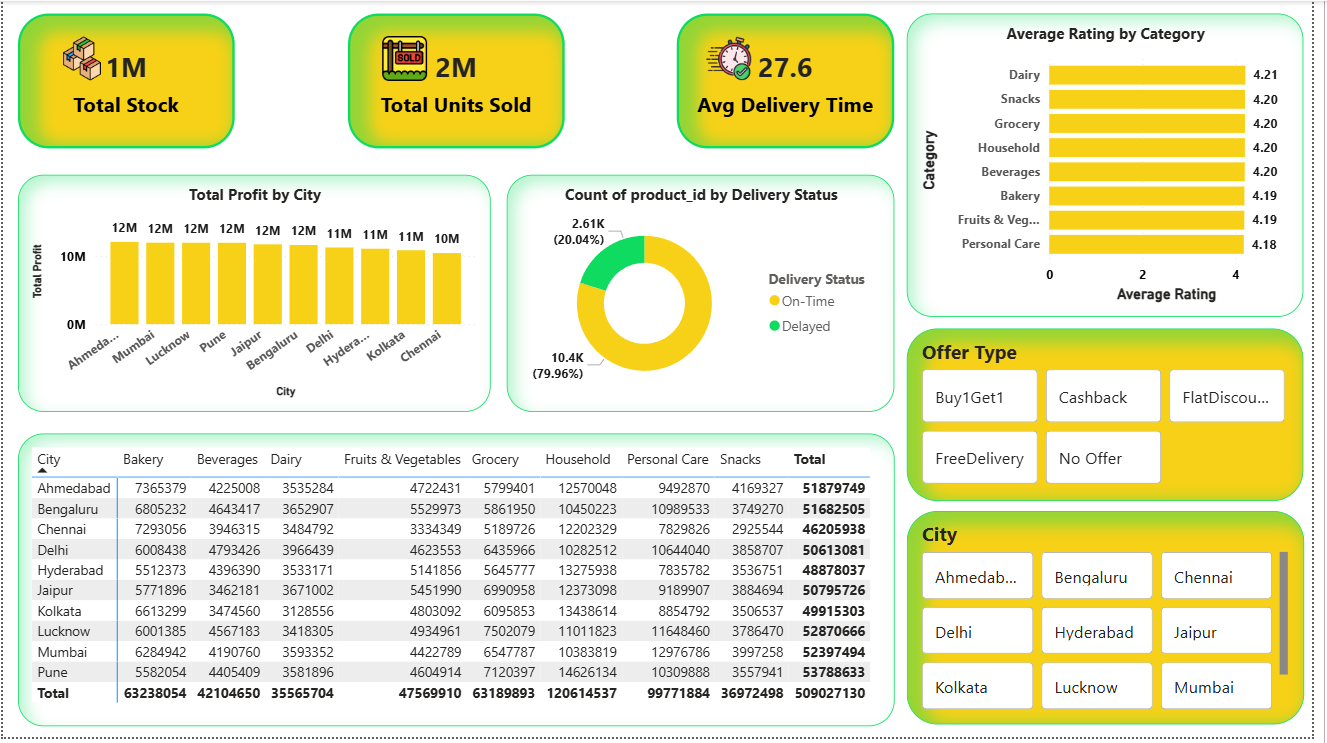

Layout of this report page (visuals, bound fields, positions):
{"tool":"powerbi","page":{"name":"Page 2","canvas":[1280,720],"ordinal":1},"visuals":[{"type":"card","fields":{"Values":["Staging.Total Stock"]},"box":[14.7,12.2,212,132.1],"z":0},{"type":"card","fields":{"Values":["Staging.Total Units Sold"]},"box":[337.5,12.2,212,132.1],"z":1},{"type":"card","fields":{"Values":["Staging.Avg Delivery Time"]},"box":[659.1,12.2,212.8,132.1],"z":2},{"type":"pivotTable","fields":{"Columns":["Staging.Category"],"Rows":["Staging.City"],"Values":["Staging.Total Revenue"]},"box":[14.7,423.1,857.2,286.1],"z":4},{"type":"columnChart","fields":{"Category":["Staging.City"],"Y":["Staging.Total Profit"]},"box":[14.7,170,462.2,232.3],"z":5},{"type":"donutChart","fields":{"Category":["Staging.Delivery Status"],"Y":["CountNonNull(Staging.product_id)"]},"box":[492.8,170,379.1,232.3],"z":6},{"type":"barChart","fields":{"Category":["Staging.Category"],"Y":["Staging.Average Rating"]},"box":[884.1,12.2,387.6,297.1],"z":7},{"type":"advancedSlicerVisual","fields":{"Values":["Staging.Offer Type"]},"box":[884.1,320.4,387.6,168.8],"z":8},{"type":"advancedSlicerVisual","fields":{"Values":["Staging.City"]},"box":[884.1,498.9,388.9,209.1],"z":10},{"type":"image","box":[369.3,34.2,46.5,44],"z":11},{"type":"image","box":[682.3,34.2,55,44],"z":12},{"type":"image","box":[41.6,34.2,70.9,44],"z":13}]}

Visuals, with their boxes in screenshot pixels (x1, y1, x2, y2), scaled from the page's 1280x720 canvas onto the 1327x743 screenshot:
card - Staging.Total Stock: [x1=15, y1=13, x2=235, y2=149]
card - Staging.Total Units Sold: [x1=350, y1=13, x2=570, y2=149]
card - Staging.Avg Delivery Time: [x1=683, y1=13, x2=904, y2=149]
pivotTable - Staging.Category x Staging.City: [x1=15, y1=437, x2=904, y2=732]
columnChart - Staging.City x Staging.Total Profit: [x1=15, y1=175, x2=494, y2=415]
donutChart - Staging.Delivery Status x CountNonNull(Staging.product_id): [x1=511, y1=175, x2=904, y2=415]
barChart - Staging.Category x Staging.Average Rating: [x1=917, y1=13, x2=1318, y2=319]
advancedSlicerVisual - Staging.Offer Type: [x1=917, y1=331, x2=1318, y2=505]
advancedSlicerVisual - Staging.City: [x1=917, y1=515, x2=1320, y2=731]
image: [x1=383, y1=35, x2=431, y2=81]
image: [x1=707, y1=35, x2=764, y2=81]
image: [x1=43, y1=35, x2=117, y2=81]
